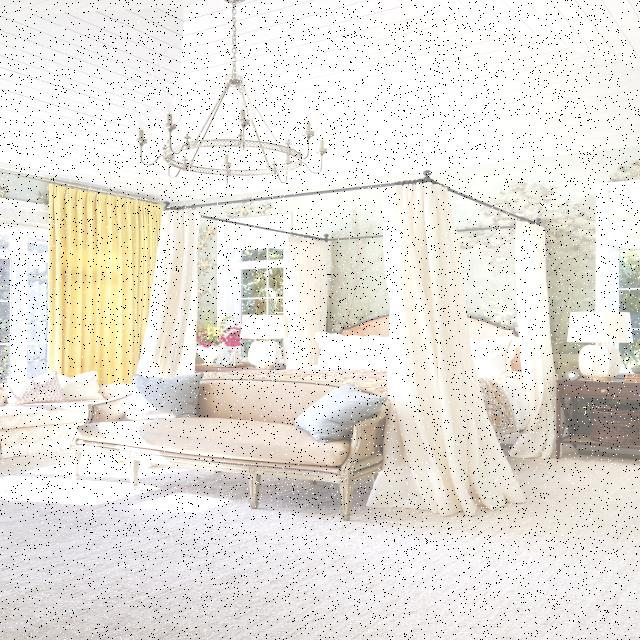bed: (304, 332, 535, 376)
